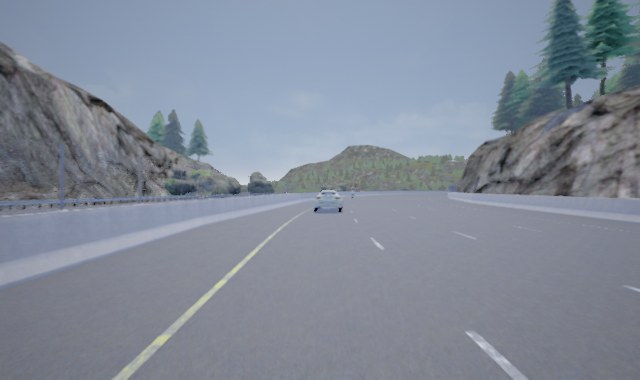vehicle: (312, 189, 343, 212)
